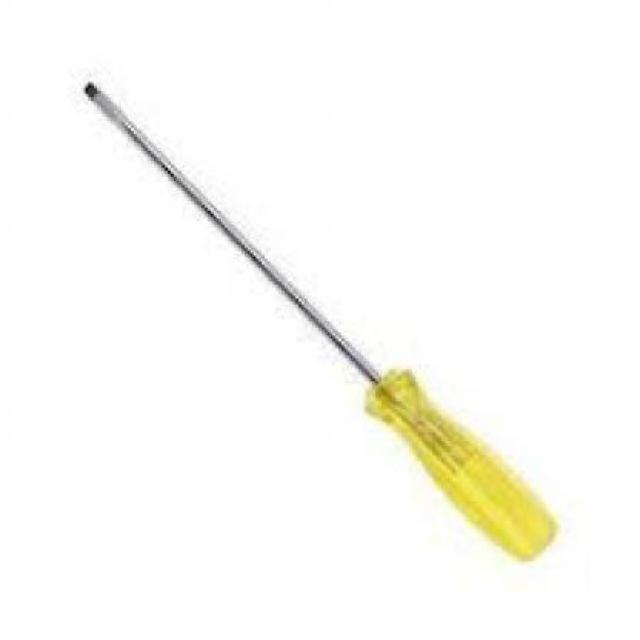screwdriver: (83, 80, 560, 566)
